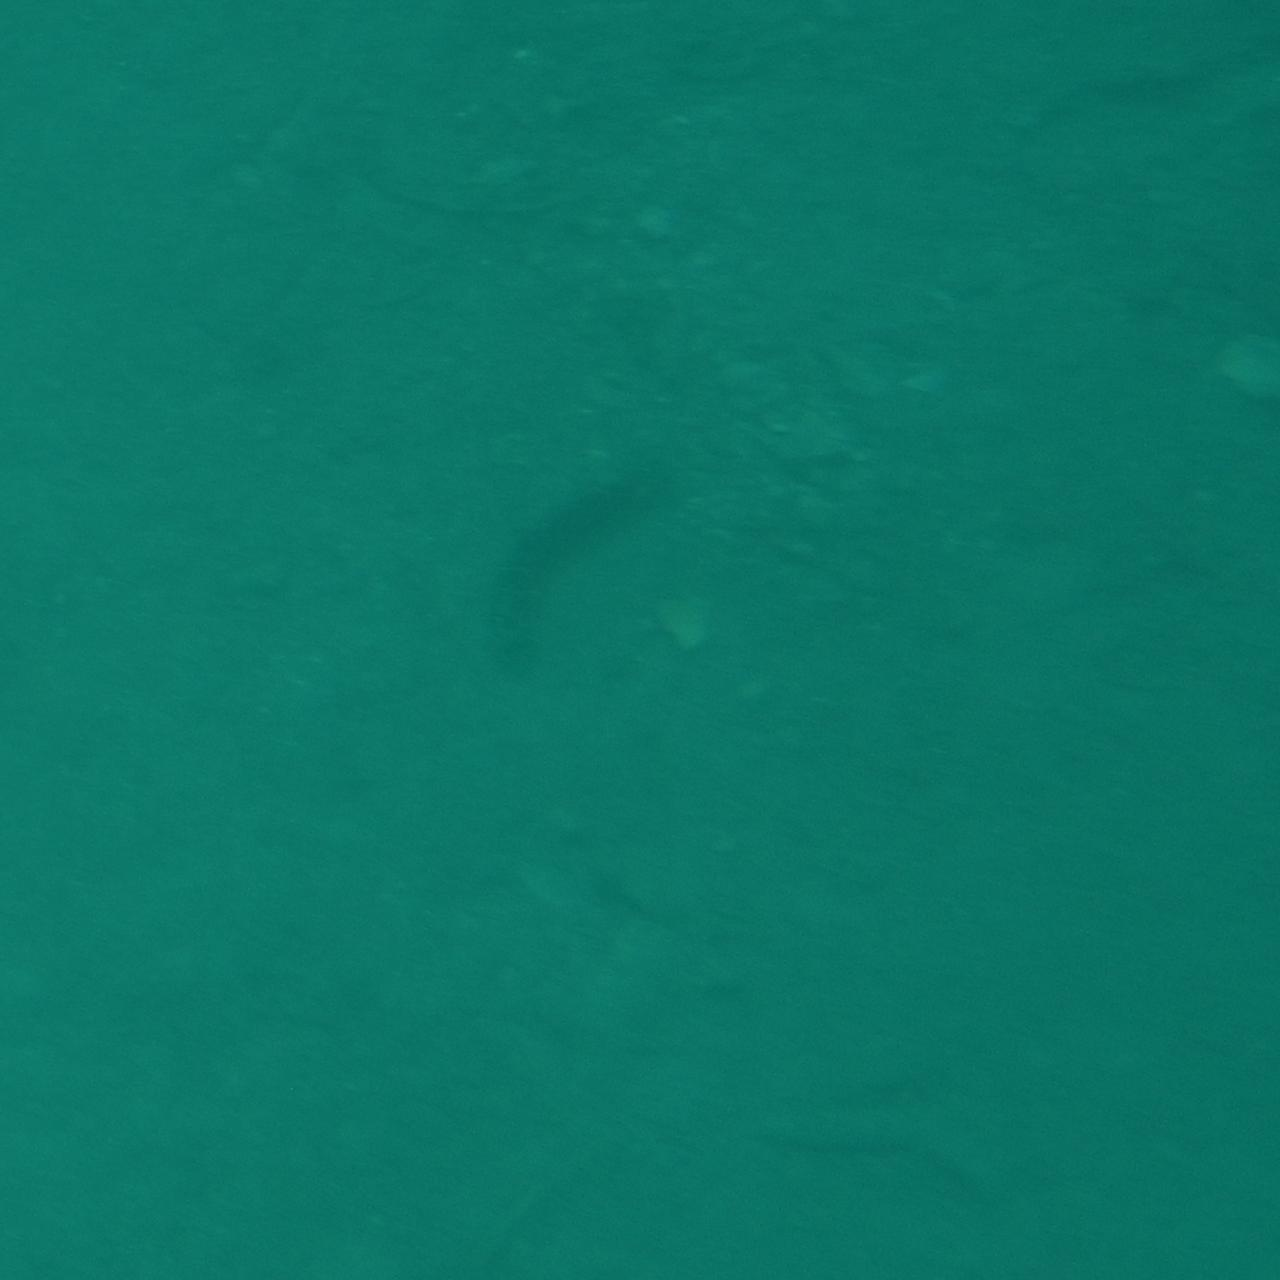Holothuria tubulosa: (433, 436, 672, 672), (741, 1110, 1071, 1257), (952, 54, 1248, 142)
